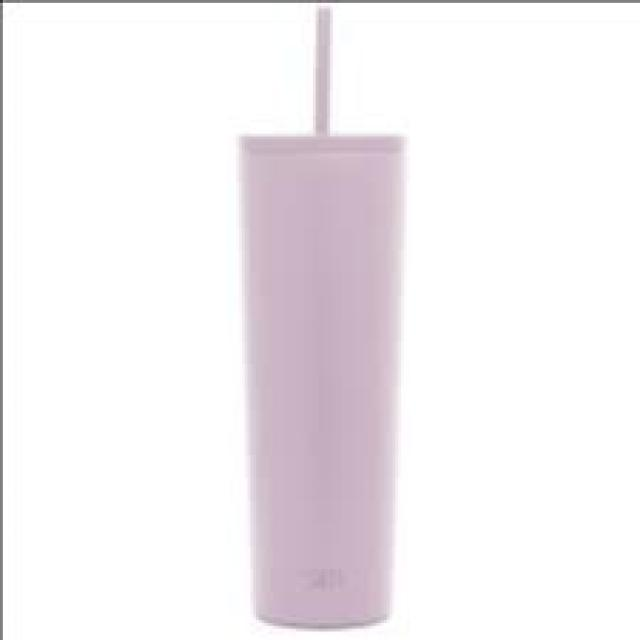bottle: (240, 118, 411, 630)
